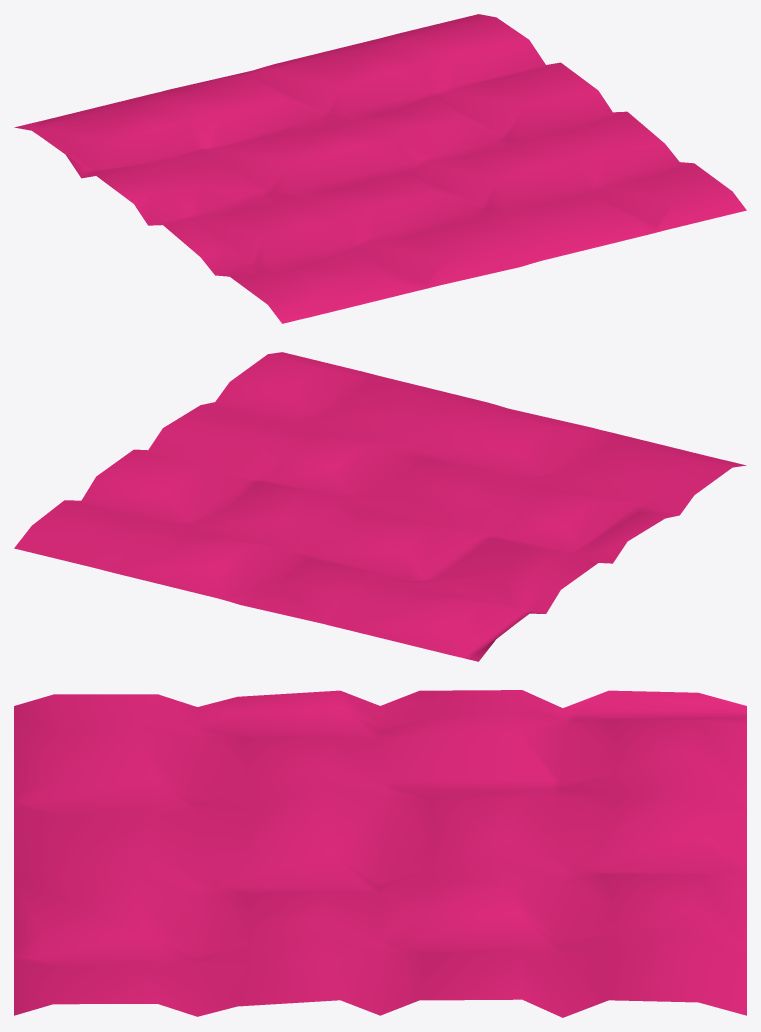
The model's file is BaseBrick_low.fbx.
3 views of the same model, one above another, from view 1: azimuth 30°, elevation 25°; view 2: azimuth 150°, elevation 25°; view 3: azimuth 270°, elevation 25° (orthographic). The views are drawn at different scales.
Parts seen in each view (by area): view 1: BaseBrick_low; view 2: BaseBrick_low; view 3: BaseBrick_low.
Part boxes in pixels (box(x1,y1,x2,y2)): BaseBrick_low: box(14, 14, 746, 323); BaseBrick_low: box(14, 352, 746, 661); BaseBrick_low: box(14, 690, 746, 1017).
Bounding box in the file's own units: 100 × 3.02 × 100.
